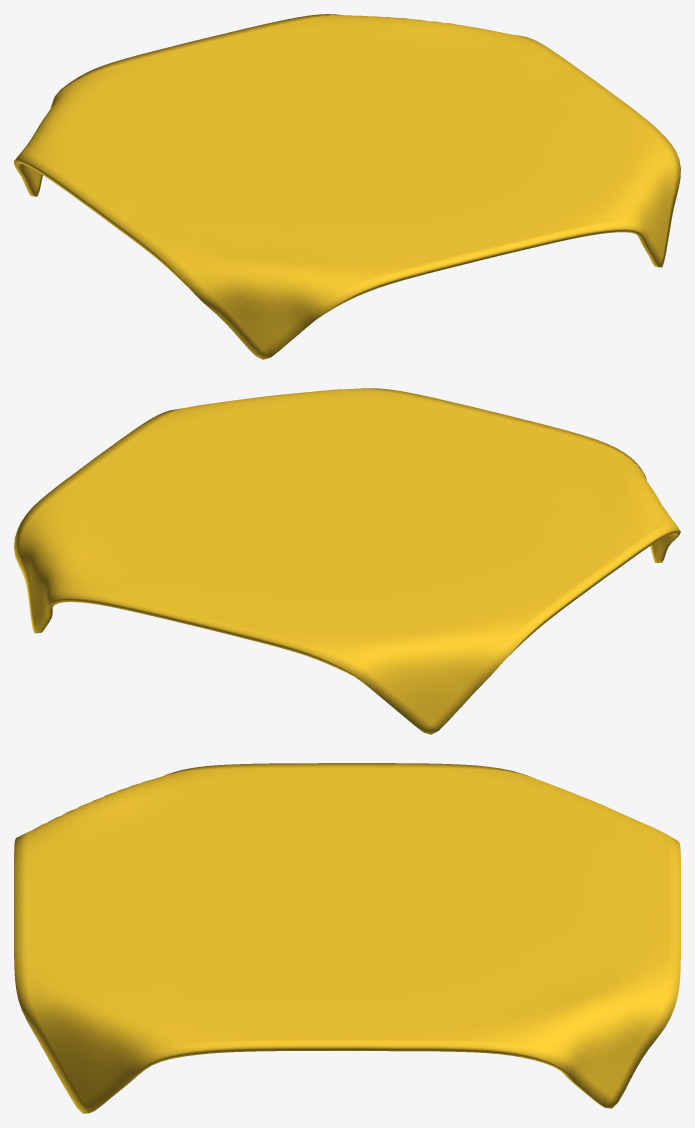
File: Cheese.gltf
3 views of the same model, one above another, from view 1: azimuth 30°, elevation 25°; view 2: azimuth 150°, elevation 25°; view 3: azimuth 270°, elevation 25° (orthographic). The views are drawn at different scales.
Parts seen in each view (by area): view 1: chesse.001; view 2: chesse.001; view 3: chesse.001.
Boxes of the visible parts, box(x1,y1,x2,y2) form: chesse.001: box(14, 14, 680, 359); chesse.001: box(14, 388, 680, 734); chesse.001: box(14, 763, 680, 1113).
Bounding box in the file's own units: 1.76 × 0.2934 × 1.76.
